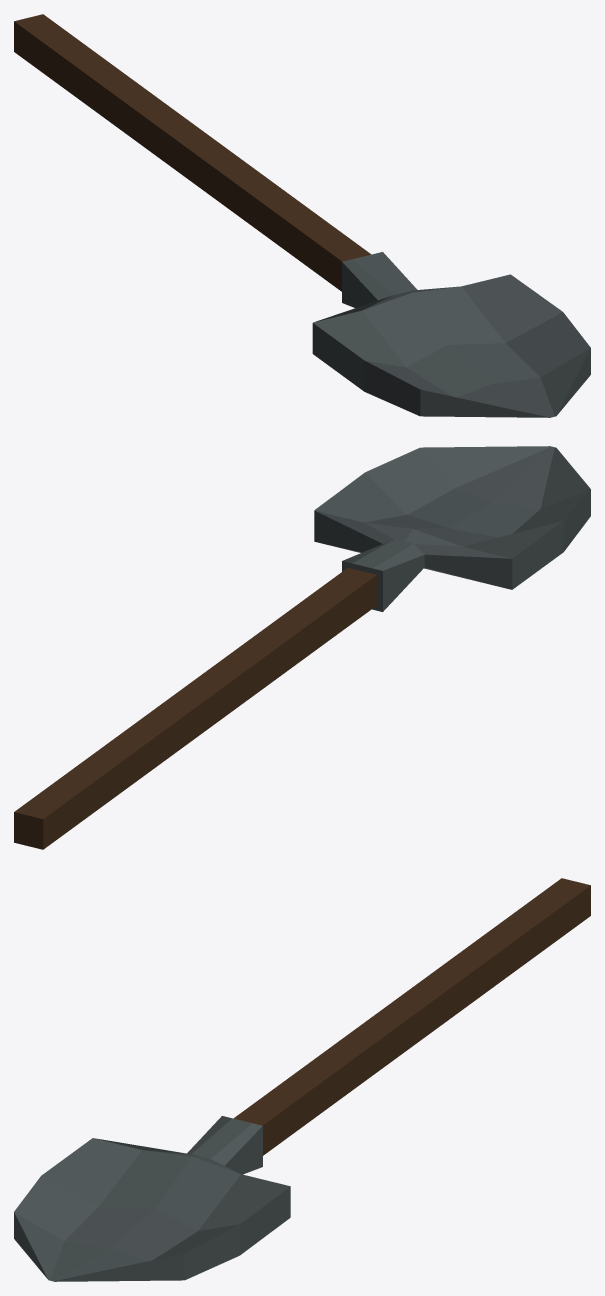
The model's file is Shovel_1_Dark_Brown.fbx.
The picture shows the model from 3 angles, top to bottom: view 1: azimuth 30°, elevation 25°; view 2: azimuth 150°, elevation 25°; view 3: azimuth 330°, elevation 25°; orthographic projection.
Visible parts, largest first — view 1: Shovel_1_Dark_Brown; view 2: Shovel_1_Dark_Brown; view 3: Shovel_1_Dark_Brown.
Part boxes in pixels (x1,y1,x2,y2): Shovel_1_Dark_Brown: (14,14,590,417); Shovel_1_Dark_Brown: (14,446,590,849); Shovel_1_Dark_Brown: (14,878,590,1281).
Bounding box in the file's own units: 67.99 × 13.69 × 311.
